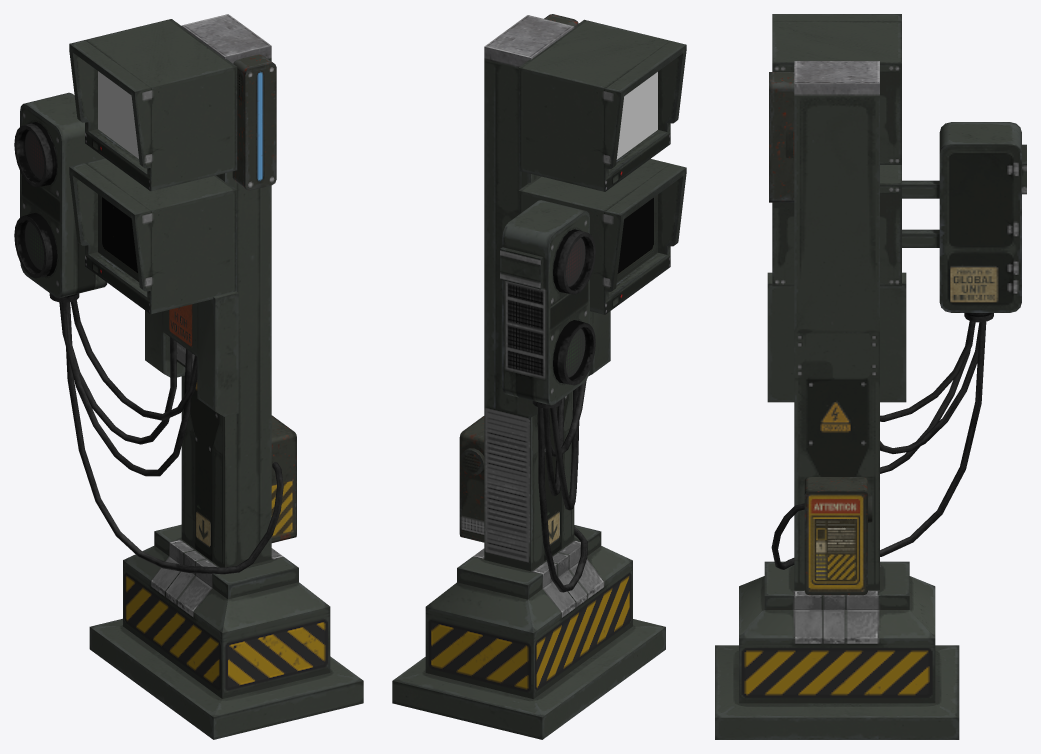
File: CP_Traffic_Light_02.fbx
3 renders of one model, left to right at view 1: azimuth 30°, elevation 25°; view 2: azimuth 150°, elevation 25°; view 3: azimuth 270°, elevation 25°, orthographic.
Visible parts, largest first — view 1: CP_Traffic_Light_02_LOD0, CP_Traffic_Light_02_01, CP_Traffic_Light_02_02; view 2: CP_Traffic_Light_02_LOD0, CP_Traffic_Light_02_02, CP_Traffic_Light_02_01; view 3: CP_Traffic_Light_02_LOD0.
Part boxes in pixels (x1,y1,x2,y2): CP_Traffic_Light_02_LOD0: (14,14,363,739); CP_Traffic_Light_02_01: (24,130,44,179); CP_Traffic_Light_02_02: (24,221,44,270); CP_Traffic_Light_02_LOD0: (392,14,686,739); CP_Traffic_Light_02_02: (566,328,585,377); CP_Traffic_Light_02_01: (566,238,585,287); CP_Traffic_Light_02_LOD0: (715,14,1026,739).
Size of what is drawn, in the model's own units: 65.97 by 202 by 90.45.
